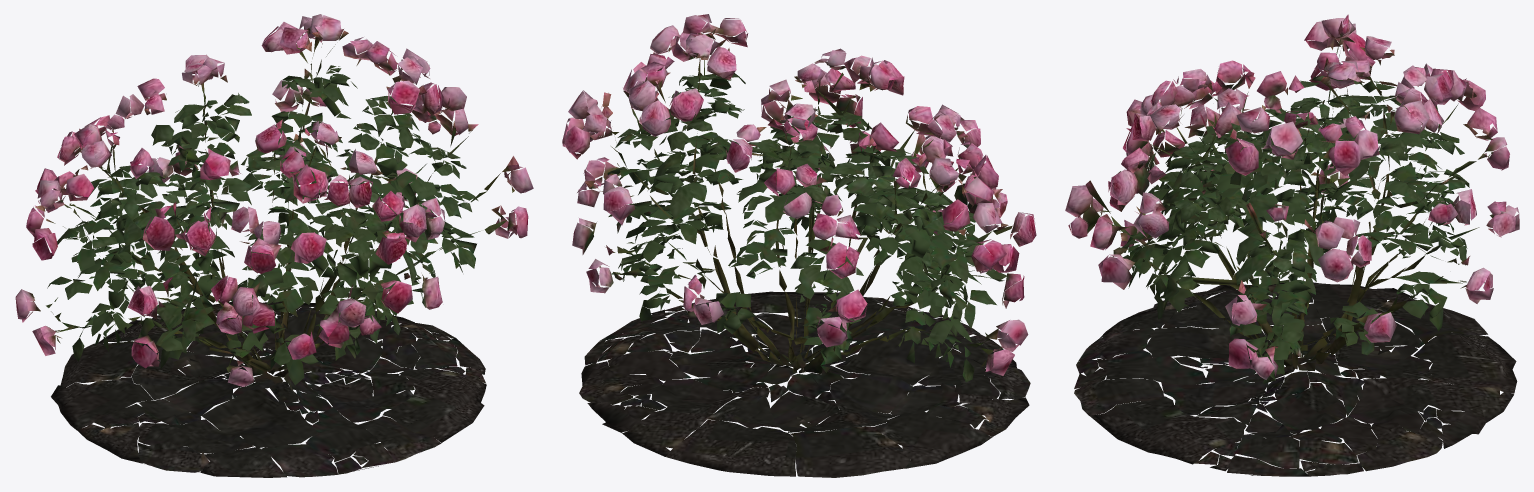
Rendered from rosal.glb.
The picture shows the model from 3 angles, left to right: view 1: azimuth 30°, elevation 25°; view 2: azimuth 150°, elevation 25°; view 3: azimuth 270°, elevation 25°; orthographic projection. The views are drawn at different scales.
Parts seen in each view (by area): view 1: tripo_node_05de4fdc-e4c2-45a9-9cec-b475a4622342; view 2: tripo_node_05de4fdc-e4c2-45a9-9cec-b475a4622342; view 3: tripo_node_05de4fdc-e4c2-45a9-9cec-b475a4622342.
Boxes of the visible parts, left/top/right/bottom form: tripo_node_05de4fdc-e4c2-45a9-9cec-b475a4622342: left=15, top=14, right=533, bottom=477; tripo_node_05de4fdc-e4c2-45a9-9cec-b475a4622342: left=562, top=14, right=1036, bottom=477; tripo_node_05de4fdc-e4c2-45a9-9cec-b475a4622342: left=1065, top=14, right=1519, bottom=476.
Size of the model in its own units: 1 by 0.6909 by 0.7953.
1 material, 1 textured.
